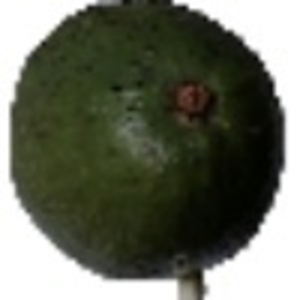abacate: (7, 2, 291, 280)
